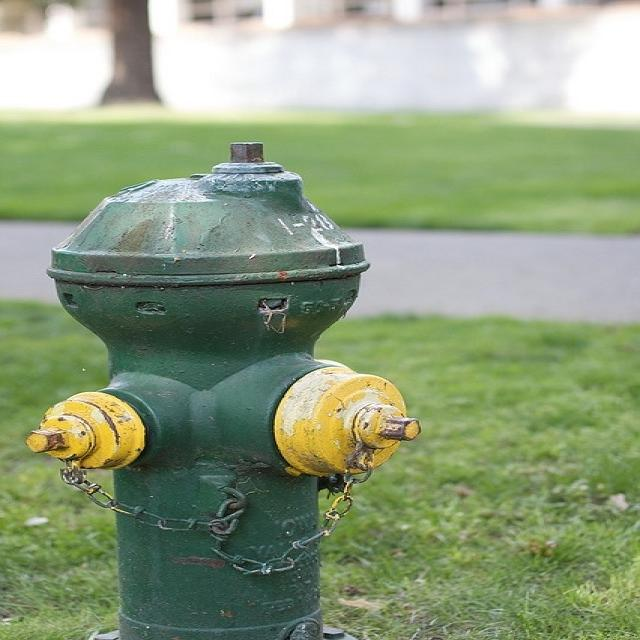fire_hydrant: (2, 117, 489, 640)
